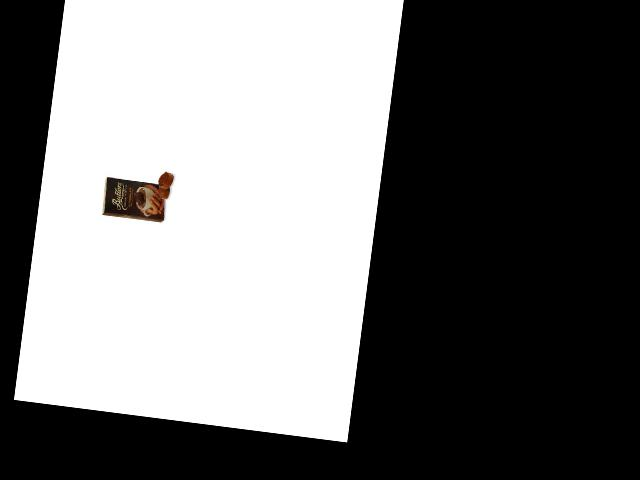chocolate: (98, 171, 170, 225)
